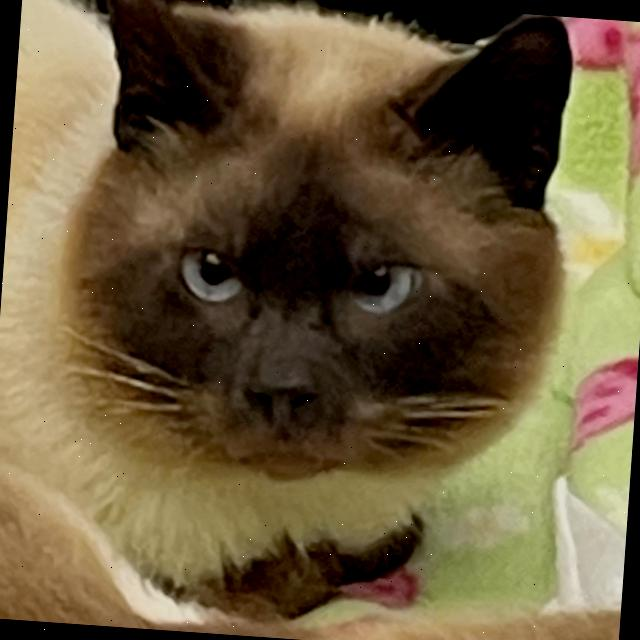siamese_cat: (49, 0, 600, 524)
